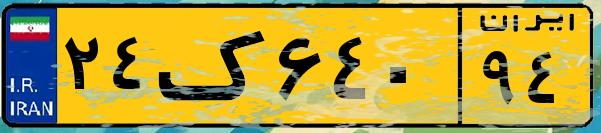0: (385, 28, 445, 110)
2: (57, 26, 110, 100)
4: (330, 28, 385, 110), (525, 38, 570, 115), (110, 28, 158, 98)
6: (270, 28, 330, 110)
9: (475, 38, 525, 113)
ک: (158, 12, 270, 120)
